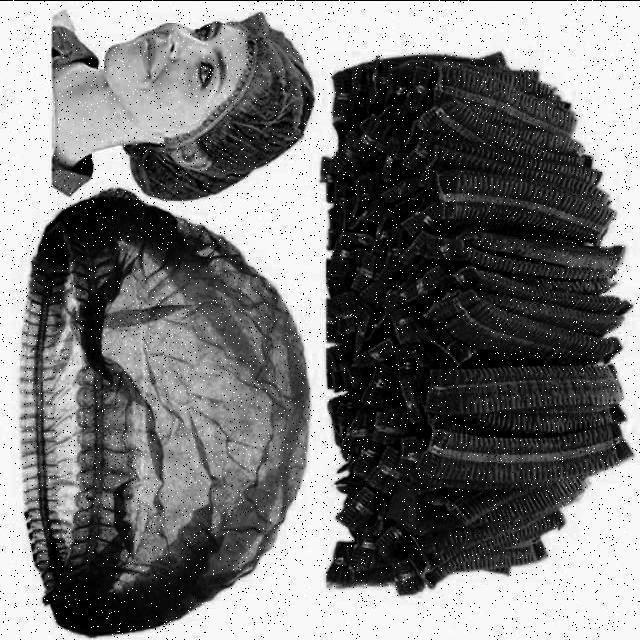gloves: (3, 206, 317, 616), (212, 19, 326, 175)
no_hairnet: (120, 32, 184, 94)
